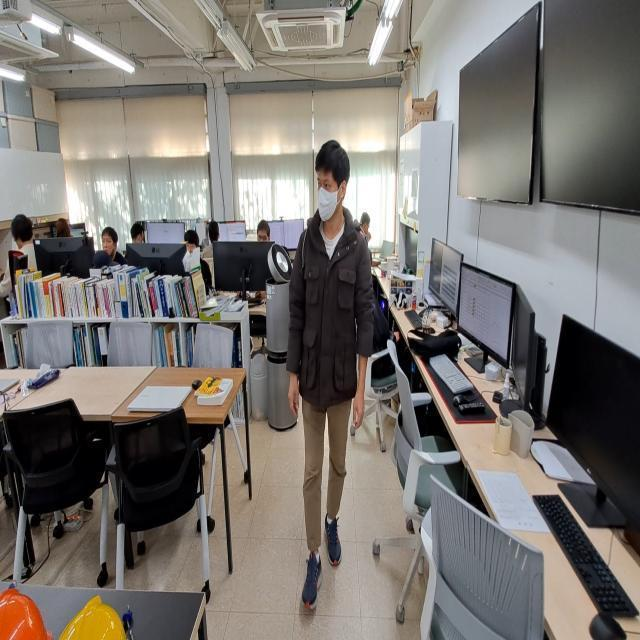vest: (288, 138, 372, 614)
